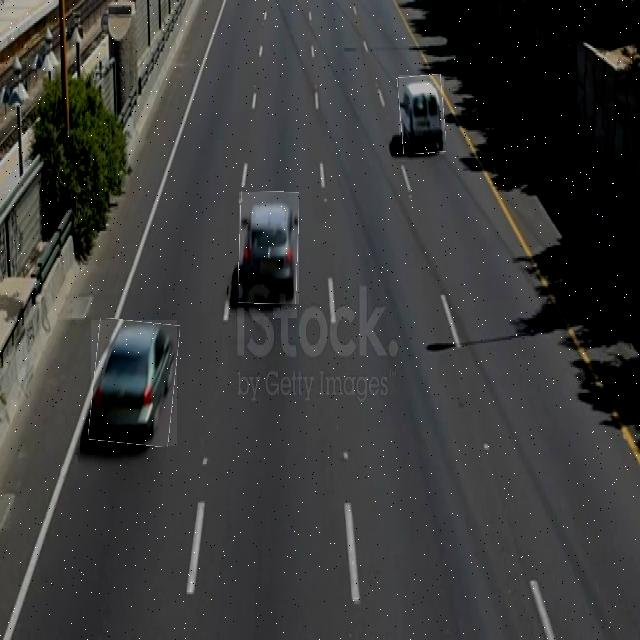Car: (91, 320, 177, 446), (239, 192, 299, 304), (399, 75, 444, 154)
